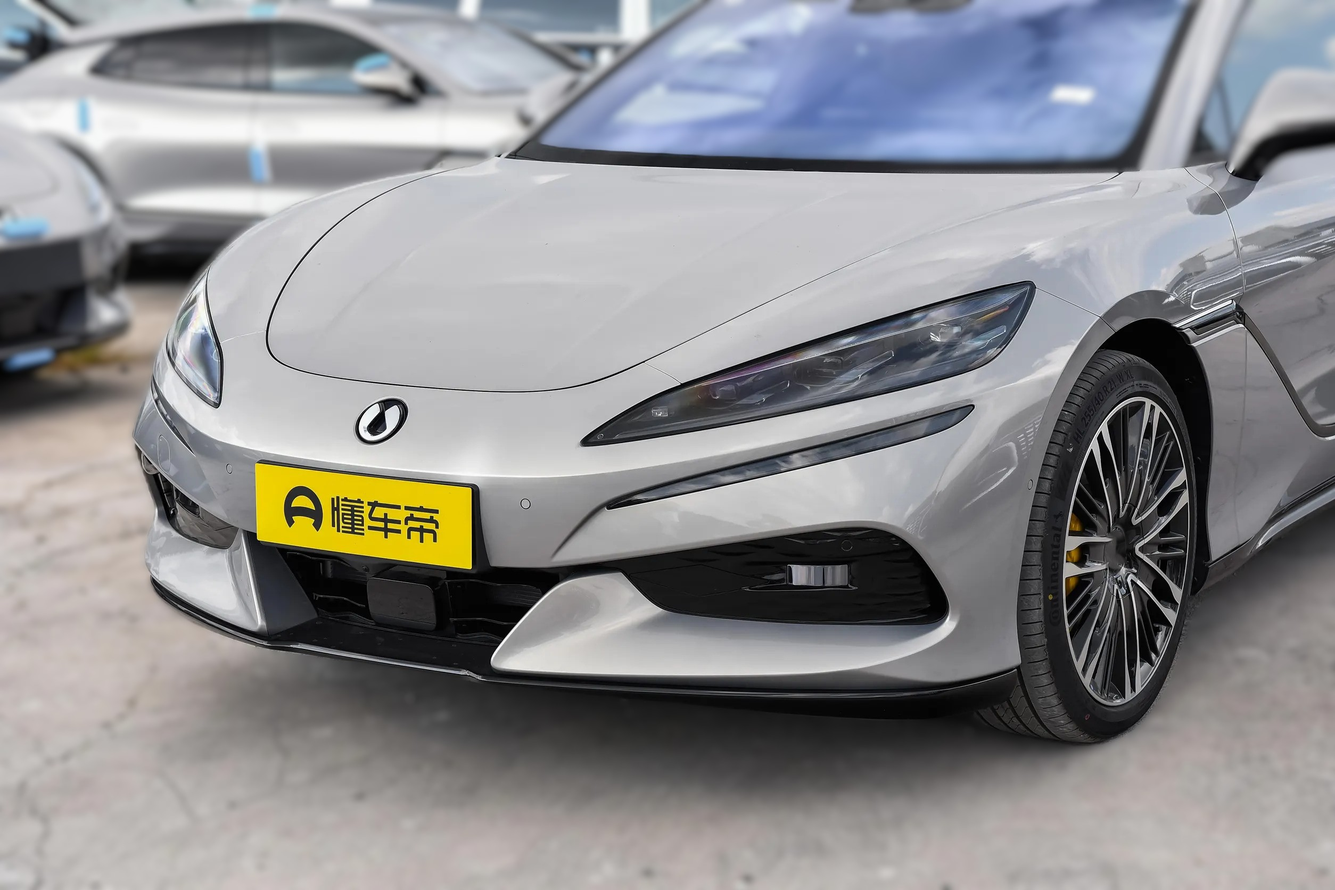DENZA: (359, 403, 399, 440)
